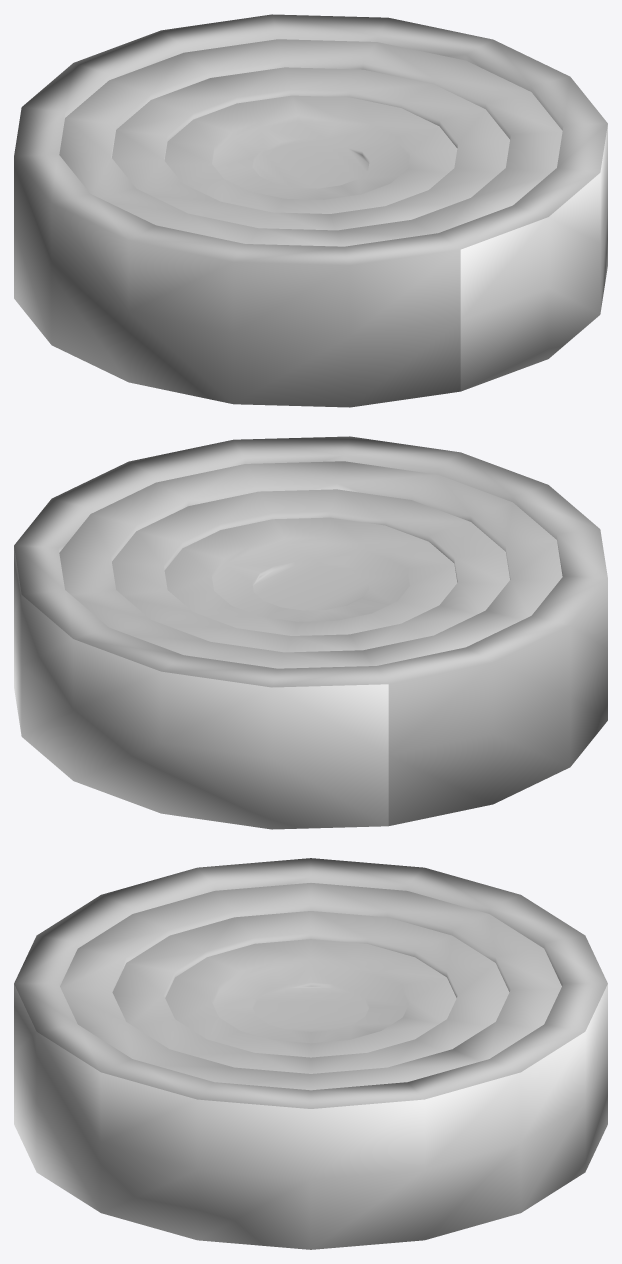
Rendered from aim.fbx.
3 renders of one model, top to bottom at view 1: azimuth 30°, elevation 25°; view 2: azimuth 150°, elevation 25°; view 3: azimuth 270°, elevation 25°, orthographic.
Parts seen in each view (by area): view 1: 3DSMesh_0, 3DSMesh_1; view 2: 3DSMesh_0, 3DSMesh_1; view 3: 3DSMesh_0, 3DSMesh_1.
Part boxes in pixels (bbox=[...]): 3DSMesh_0: bbox=[14, 14, 607, 407]; 3DSMesh_1: bbox=[460, 125, 607, 391]; 3DSMesh_0: bbox=[14, 436, 607, 825]; 3DSMesh_1: bbox=[14, 547, 388, 829]; 3DSMesh_0: bbox=[14, 858, 607, 1108]; 3DSMesh_1: bbox=[14, 984, 607, 1249].
Size of the model in its own units: 27.42 by 7.17 by 27.42.
